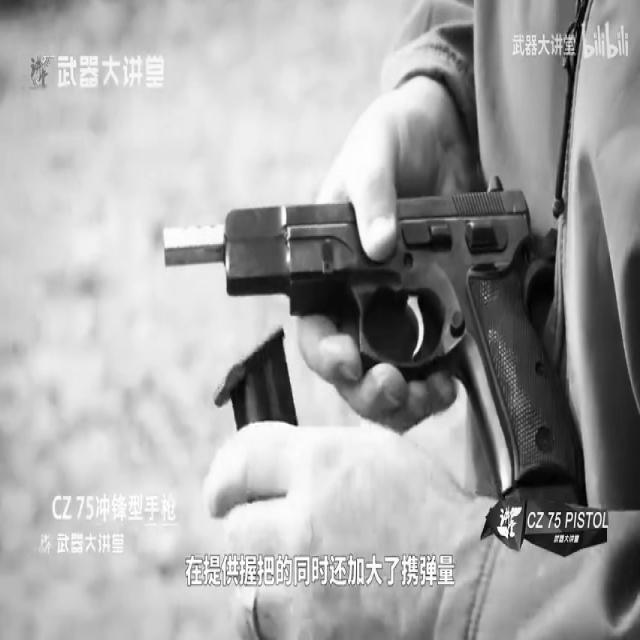Hand-Gun: (162, 172, 568, 498)
